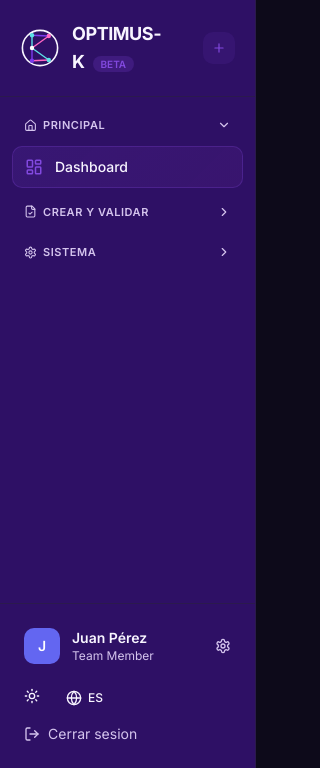
Test: NovaSidebar › opens another section when clicked
// Click on 'Crear y Validar' section to open it
Click the button "Crear y Validar" at (128, 212), box [12, 196, 243, 228]
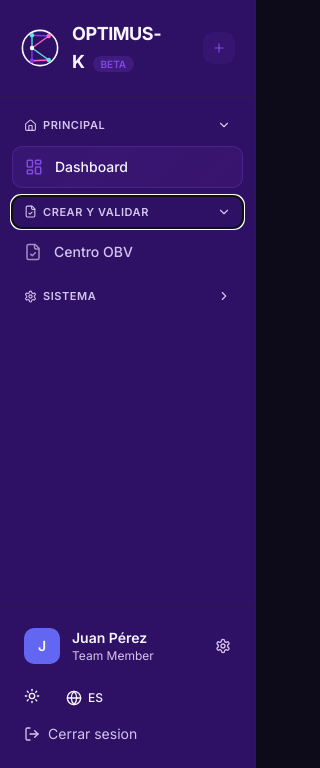
Check: the text "Centro OBV" is shown, box [54, 243, 133, 260]
